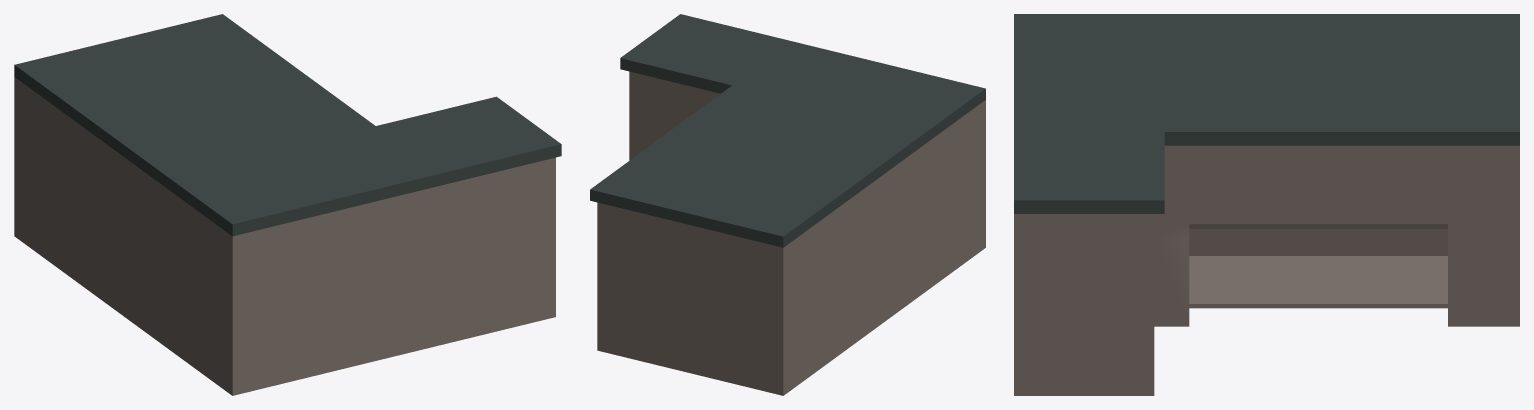
Rendered from SM_counter_02.fbx.
3 renders of one model, left to right at view 1: azimuth 30°, elevation 25°; view 2: azimuth 150°, elevation 25°; view 3: azimuth 270°, elevation 25°, orthographic. The views are drawn at different scales.
Parts seen in each view (by area): view 1: counter_02; view 2: counter_02; view 3: counter_02.
Part boxes in pixels (box(x1,y1,x2,y2)): counter_02: box(14, 14, 561, 395); counter_02: box(590, 14, 985, 395); counter_02: box(1014, 14, 1519, 395).
Bounding box in the file's own units: 246 × 123 × 283.
